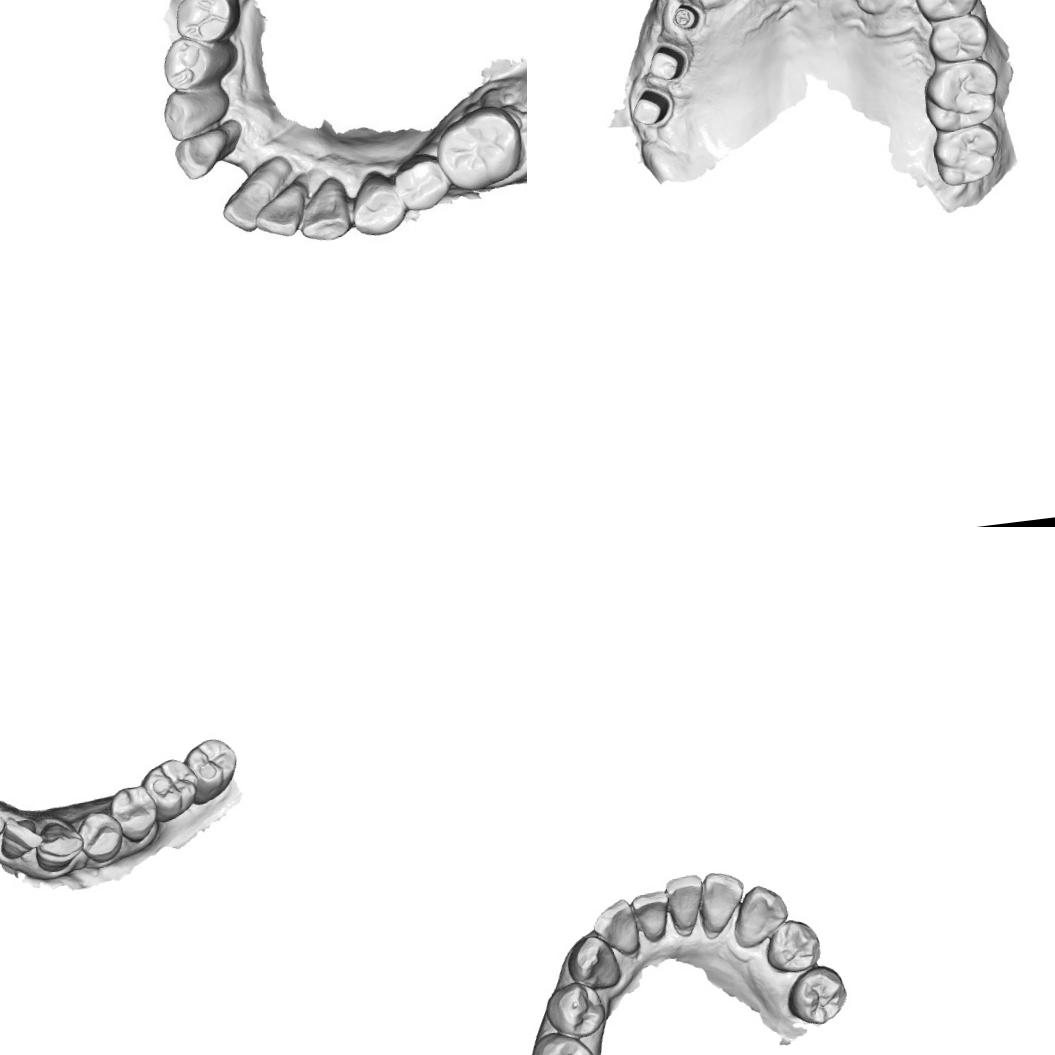abutment: (626, 82, 677, 132), (646, 39, 692, 85)
canine: (293, 172, 358, 244), (728, 881, 792, 949), (564, 932, 623, 993), (162, 86, 226, 139), (30, 817, 88, 874)
implant: (670, 1, 701, 32), (0, 805, 8, 840)
incisor: (224, 166, 288, 232), (170, 124, 241, 182), (695, 868, 750, 939), (248, 181, 314, 238), (589, 897, 643, 960), (663, 872, 709, 939), (629, 888, 674, 945), (0, 812, 46, 861)
molar: (435, 104, 527, 197), (918, 57, 1004, 134), (930, 120, 1002, 190), (140, 754, 204, 825), (181, 735, 242, 807)
premolar: (154, 28, 232, 92), (343, 168, 408, 242), (782, 962, 851, 1028), (542, 978, 608, 1042), (393, 150, 452, 216), (106, 780, 162, 846), (924, 12, 992, 66), (762, 916, 823, 976), (171, 0, 250, 43), (75, 807, 128, 866), (528, 1027, 600, 1055), (910, 0, 984, 23)
